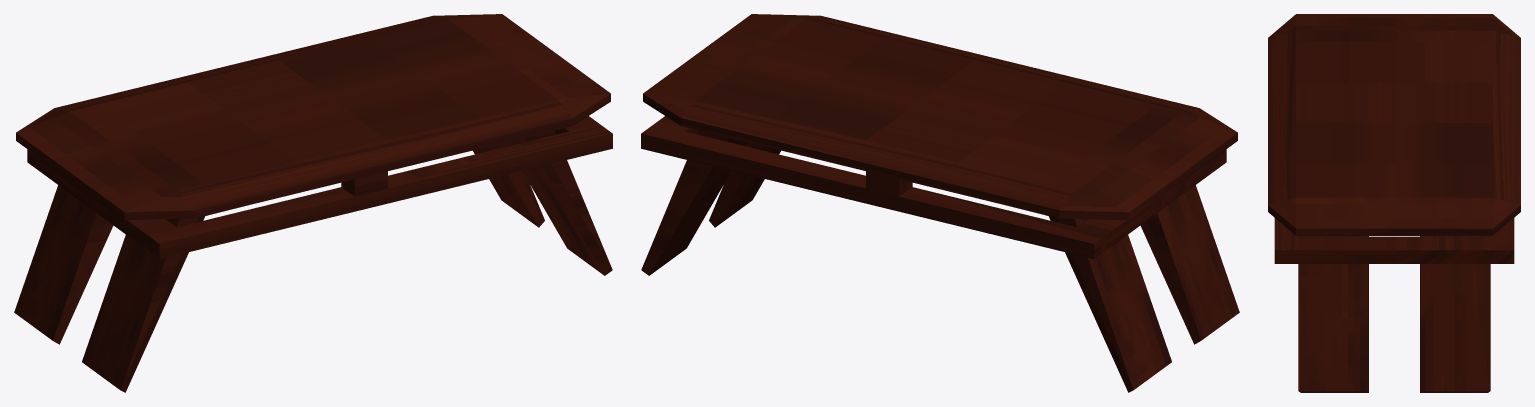
Rendered from coffeetable.glb.
The picture shows the model from 3 angles, left to right: view 1: azimuth 30°, elevation 25°; view 2: azimuth 150°, elevation 25°; view 3: azimuth 270°, elevation 25°; orthographic projection. The views are drawn at different scales.
Visible parts, largest first — view 1: Cube.001; view 2: Cube.001; view 3: Cube.001.
Part boxes in pixels (left/top/right/bottom): Cube.001: left=14, top=14, right=612, bottom=392; Cube.001: left=641, top=14, right=1239, bottom=392; Cube.001: left=1268, top=14, right=1520, bottom=392.
Bounding box in the file's own units: 4.07 × 1.51 × 2.
1 material, 1 textured.
